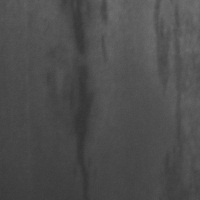inclusion: (57, 2, 94, 197), (151, 1, 189, 149), (93, 1, 113, 67)
